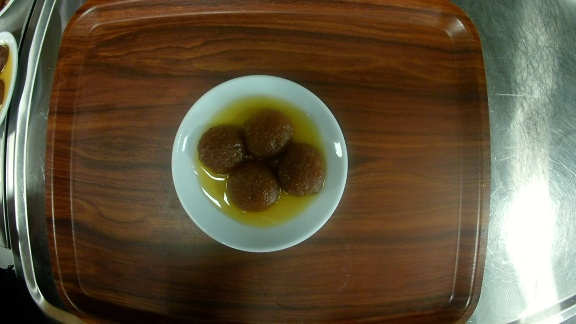kemalpasa: (170, 74, 348, 252)
